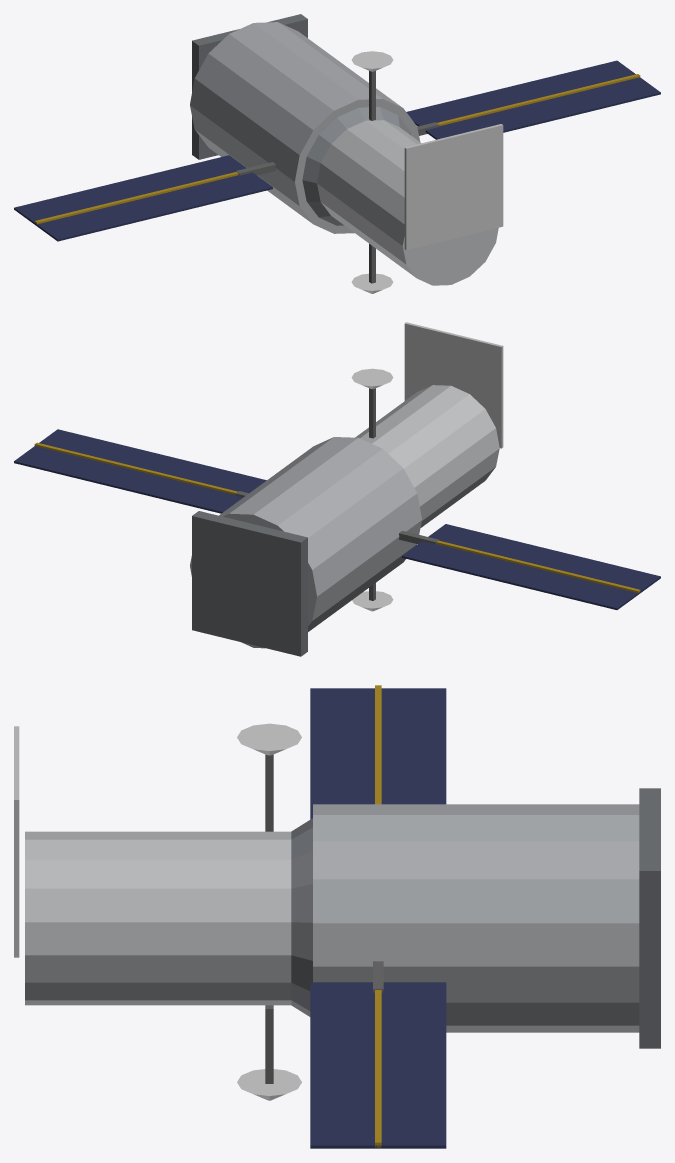
File: hubble.glb
The picture shows the model from 3 angles, top to bottom: view 1: azimuth 30°, elevation 25°; view 2: azimuth 150°, elevation 25°; view 3: azimuth 270°, elevation 25°; orthographic projection. The views are drawn at different scales.
Parts seen in each view (by area): view 1: hubble; view 2: hubble; view 3: hubble.
Boxes of the visible parts, x1,y1,x2,y2 form: hubble: [14, 14, 660, 293]; hubble: [14, 322, 660, 656]; hubble: [14, 685, 660, 1148].
Size of the model in its own units: 19.9 by 7.35 by 11.9.
